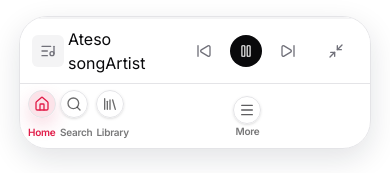
it: keeps playback inside navigation after minimizing and can restore it
Click the button titled "Minimize player". click: {"x": 336, "y": 51}
box: 314,29 -> 358,73
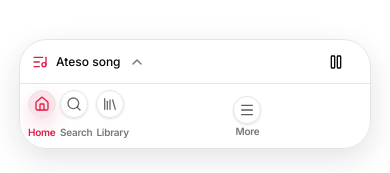
expect the element named "Minimized player" is shown: met, box 20,40 -> 370,84
Click the button named "Pause". click: {"x": 336, "y": 62}
box: 314,40 -> 358,84
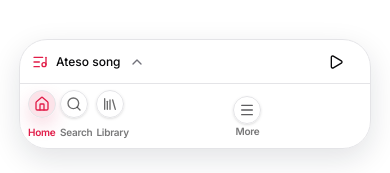
Click the button with aria-label "Expand player: Ateso song". click: {"x": 88, "y": 61}
box: 32,40 -> 306,84
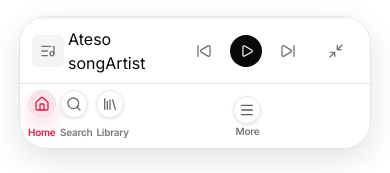
expect the button titled "Minimize player" is shown: met, box 314,29 -> 358,73
